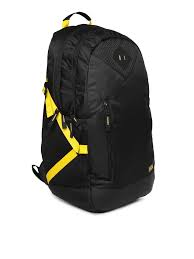backpack: (31, 11, 155, 213)
